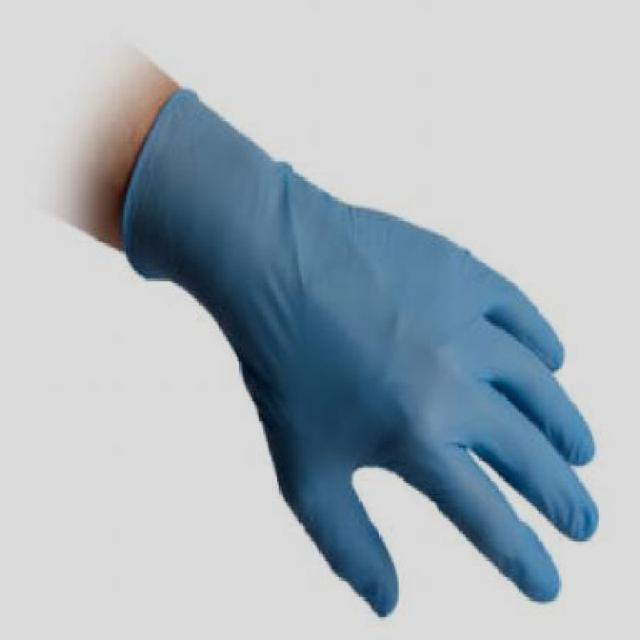glove: (120, 65, 597, 628)
